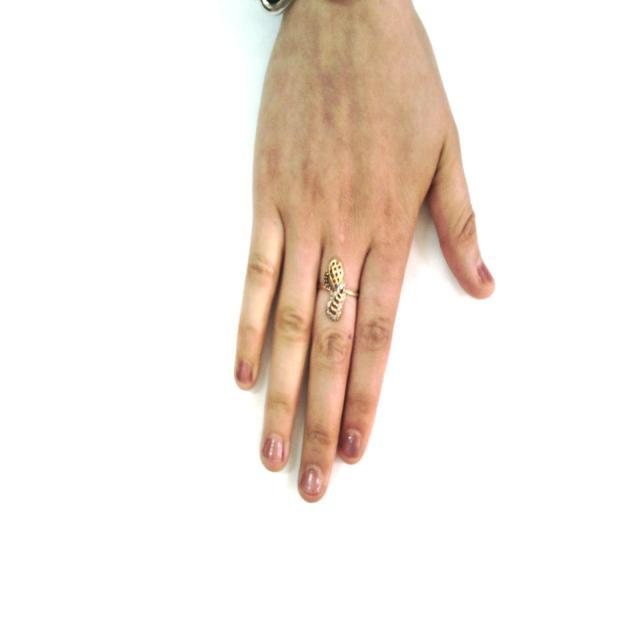Fingernail: (302, 465, 323, 497), (341, 430, 360, 460), (264, 436, 286, 461), (238, 360, 252, 383), (480, 264, 494, 284)
